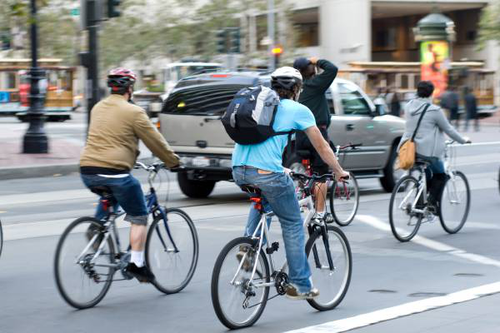bikerider: (198, 64, 374, 333), (46, 59, 200, 307), (264, 53, 365, 230), (389, 77, 480, 238)
